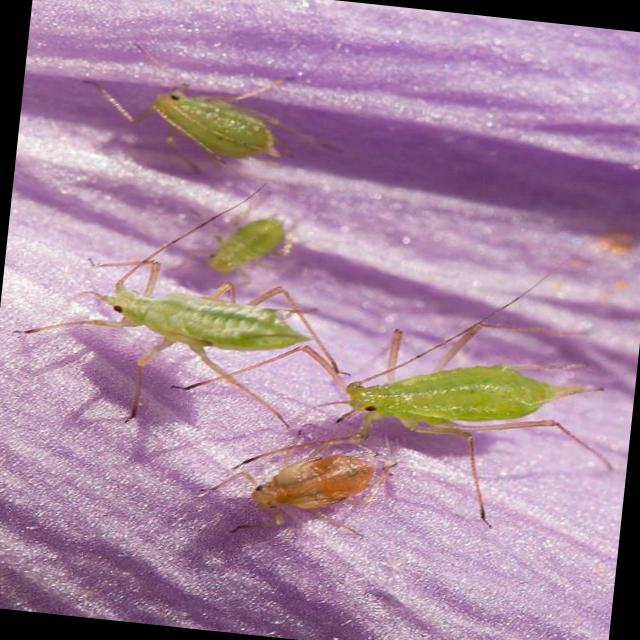Aphids: (308, 309, 631, 509), (76, 28, 376, 208), (64, 242, 345, 430), (175, 418, 468, 554)
